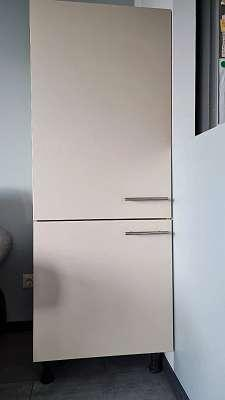cabinet_door: (34, 8, 174, 220), (35, 220, 172, 356)
handle: (120, 193, 171, 206), (121, 227, 172, 240)
